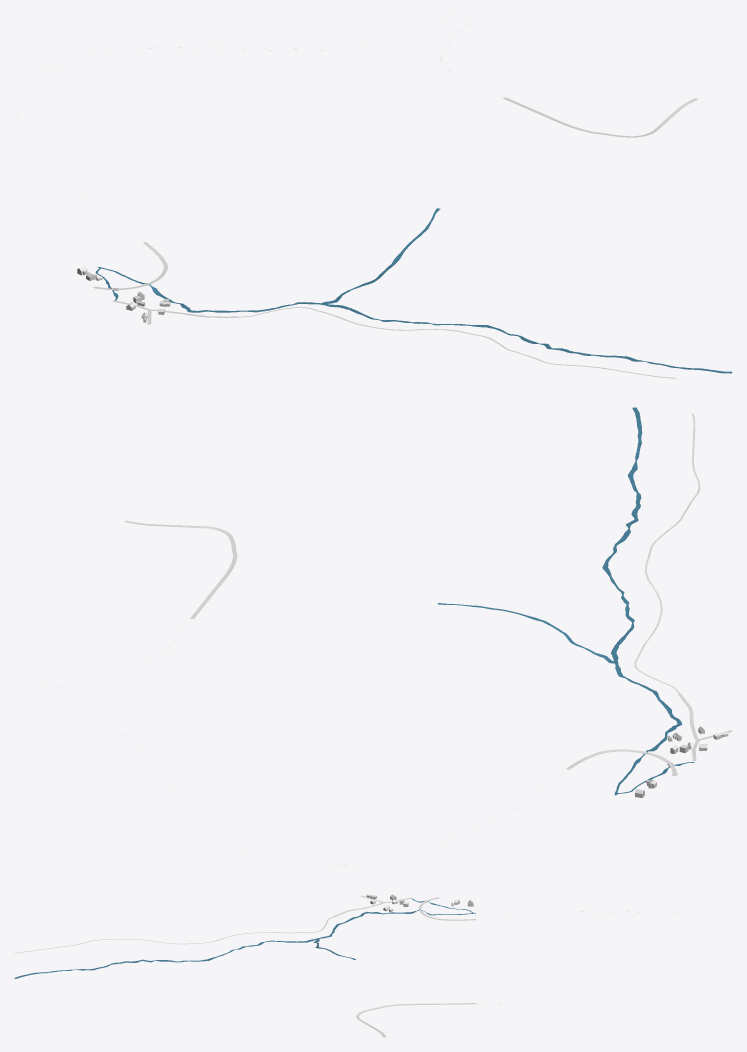
File: objekty.glb
3 renders of one model, top to bottom at view 1: azimuth 30°, elevation 25°; view 2: azimuth 150°, elevation 25°; view 3: azimuth 270°, elevation 25°, orthographic. The views are drawn at different scales.
Visible parts, largest first — view 1: Voda_09_03, Cesty_09_03; view 2: Voda_09_03, Cesty_09_03; view 3: Cesty_09_03, Voda_09_03, Budovy_09_03.
Boxes of the visible parts, <box> form: Voda_09_03: <box>95,208,732,373</box>; Cesty_09_03: <box>93,97,697,378</box>; Voda_09_03: <box>438,407,694,795</box>; Cesty_09_03: <box>125,413,732,775</box>; Cesty_09_03: <box>15,895,476,1037</box>; Voda_09_03: <box>14,898,475,978</box>; Budovy_09_03: <box>366,894,473,911</box>.
Size of the model in its own units: 1006 by 145 by 1562.
